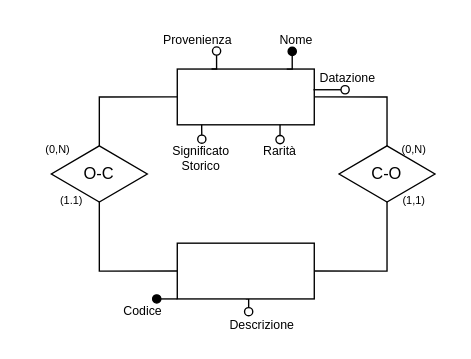
The diagram is 471 pixels wide and 359 high, and some of its shapes have lost their labels. The shapes that lost their labels are listed below. From the top down, each one's centre as x and y in pixels, then its label:
pixel 245 96: Oggetto
pixel 245 270: Correlazione
